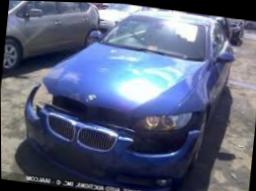Bumper: (25, 81, 202, 191)
